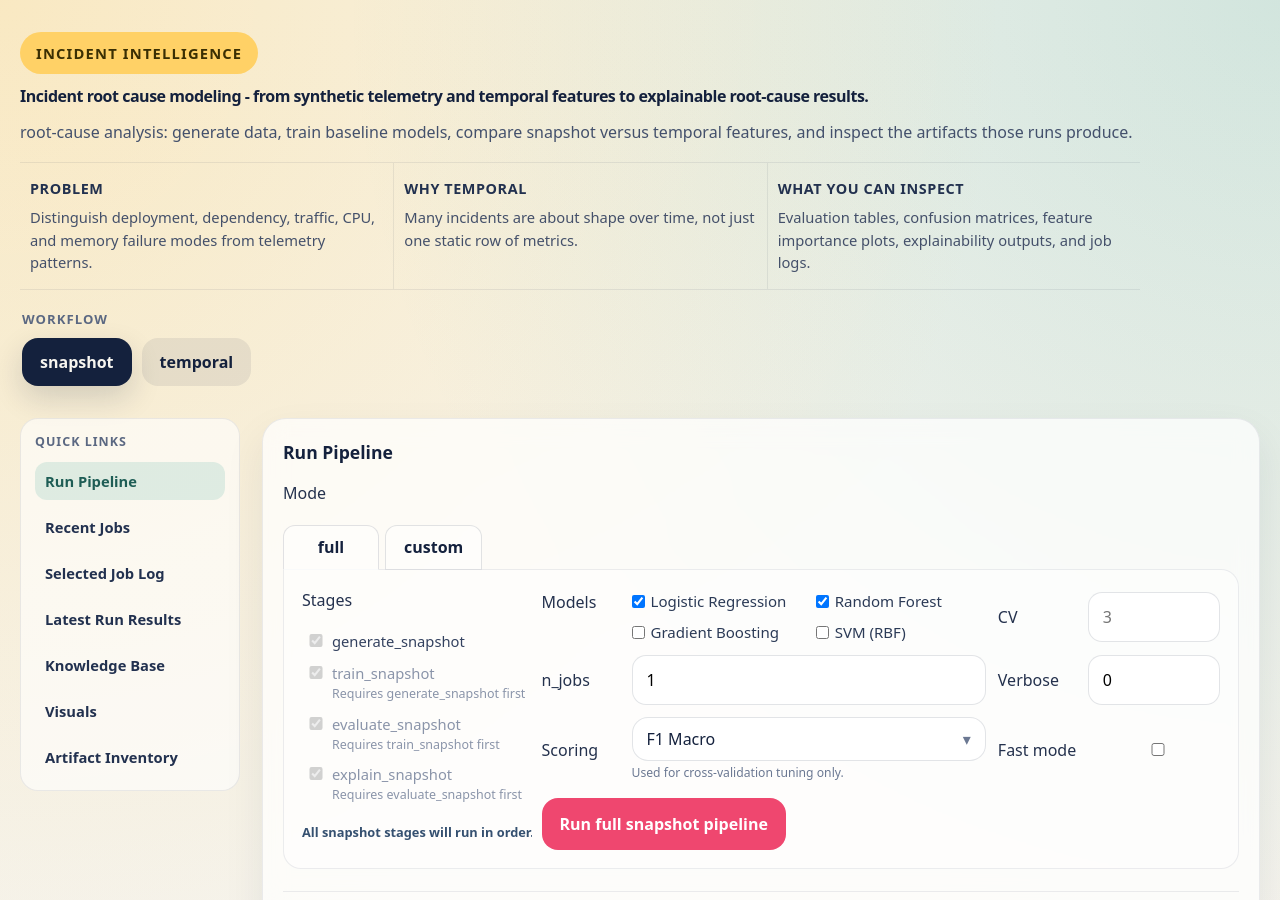
Test: App › advances a fresh custom run even when another same-workflow staged run is active
Click the button "temporal".
click(196, 362)  # box x1=142 y1=338 x2=251 y2=386
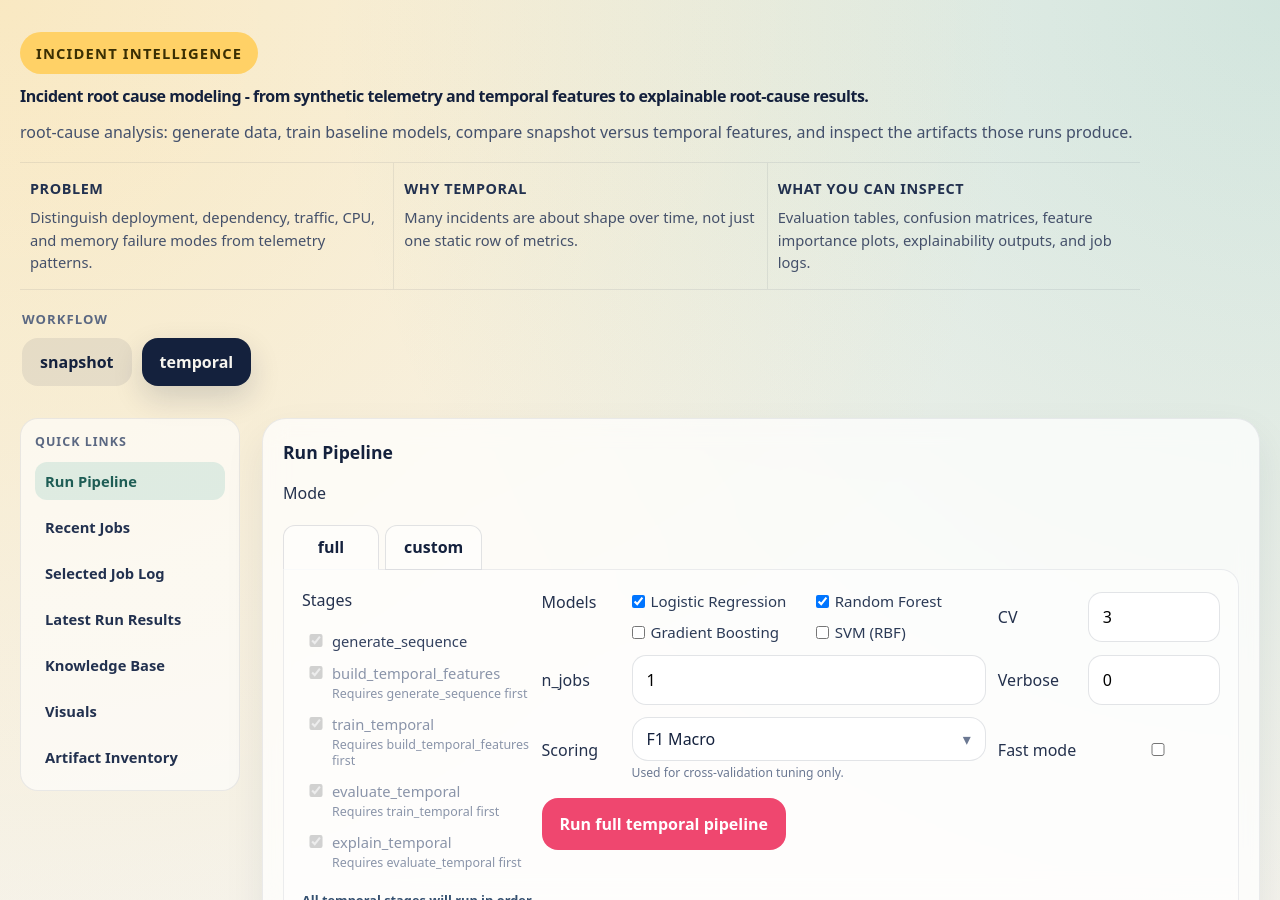
Click the button "custom".
click(434, 548)  # box x1=385 y1=525 x2=482 y2=570
(page scrolled)
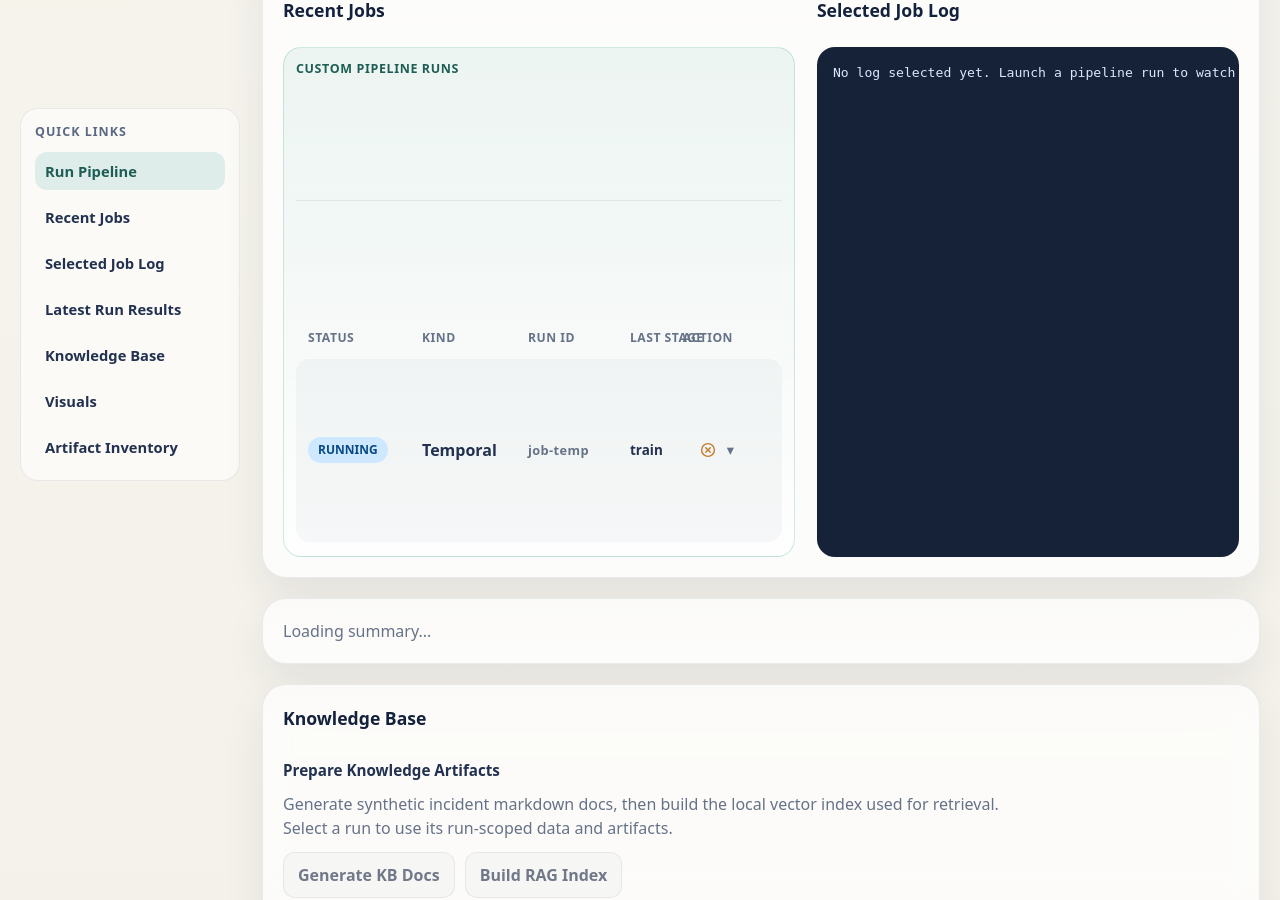
Click the button "running temporal job-temp train ▾".
click(472, 450)  # box x1=308 y1=437 x2=636 y2=463
(page scrolled)
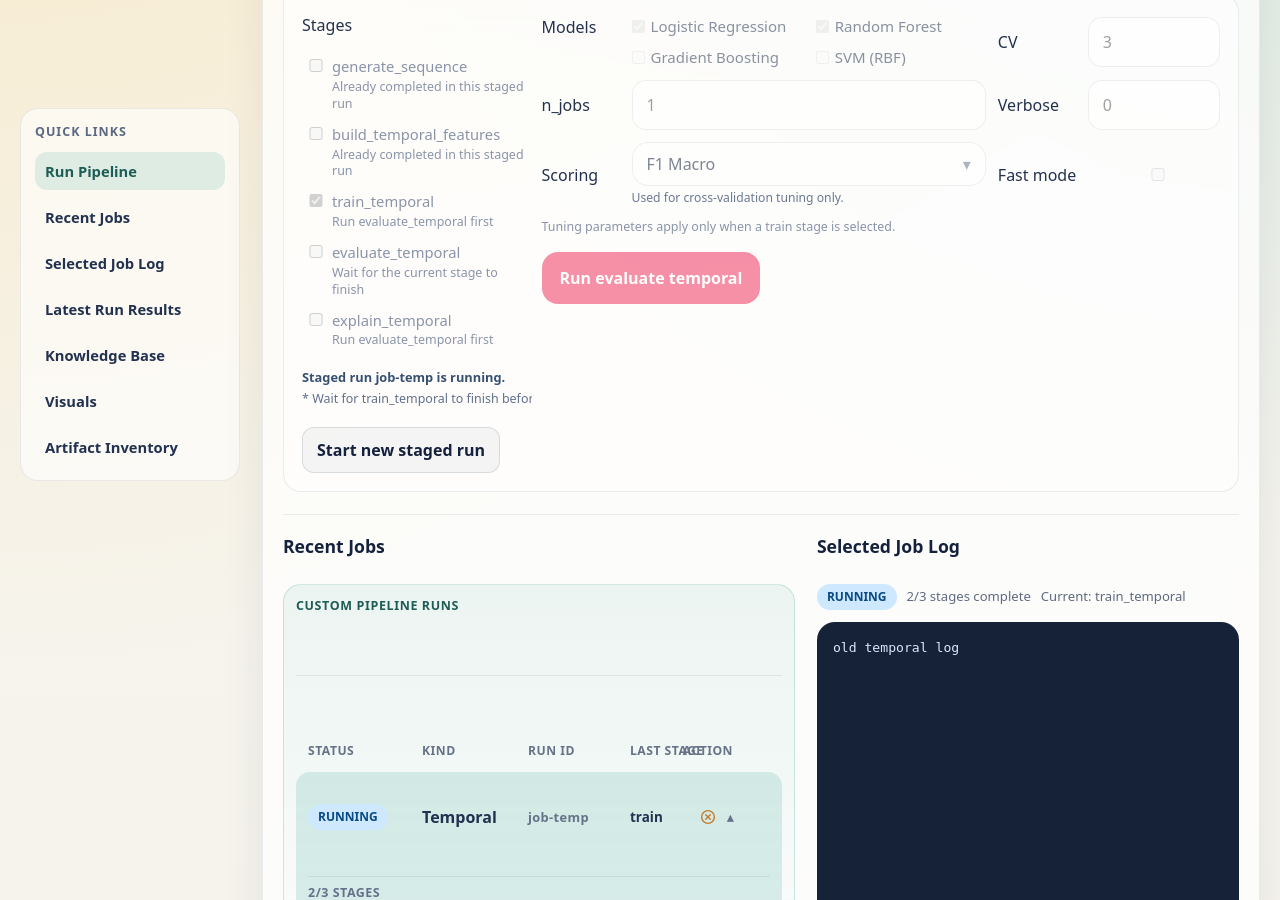
Now the text "Wait for train_temporal to finish before continuing" is shown, box x1=312 y1=390 x2=764 y2=406
Click the button "Start new staged run".
click(401, 450)  # box x1=302 y1=427 x2=500 y2=473
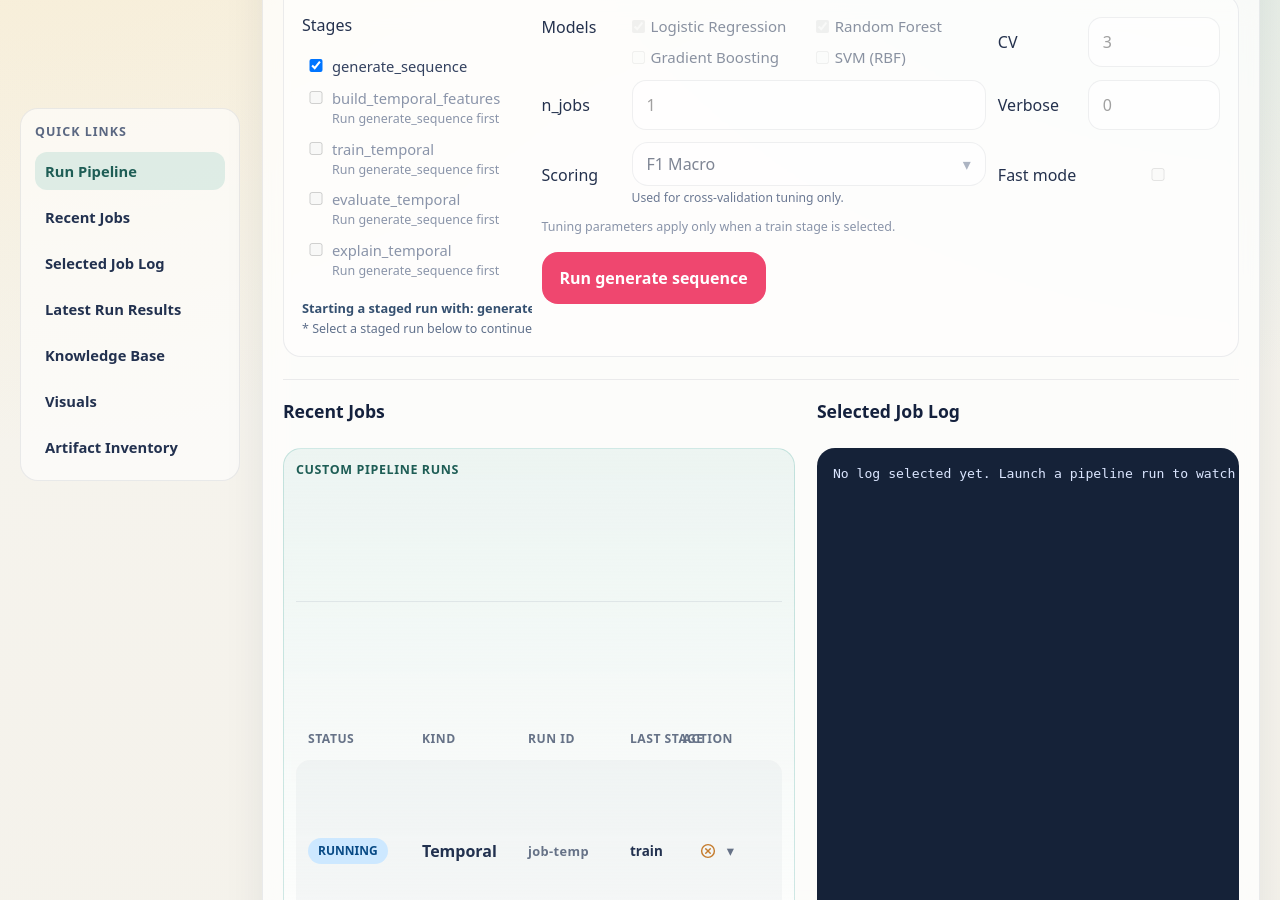
Click the button "Run generate sequence".
click(654, 278)  # box x1=542 y1=252 x2=766 y2=304
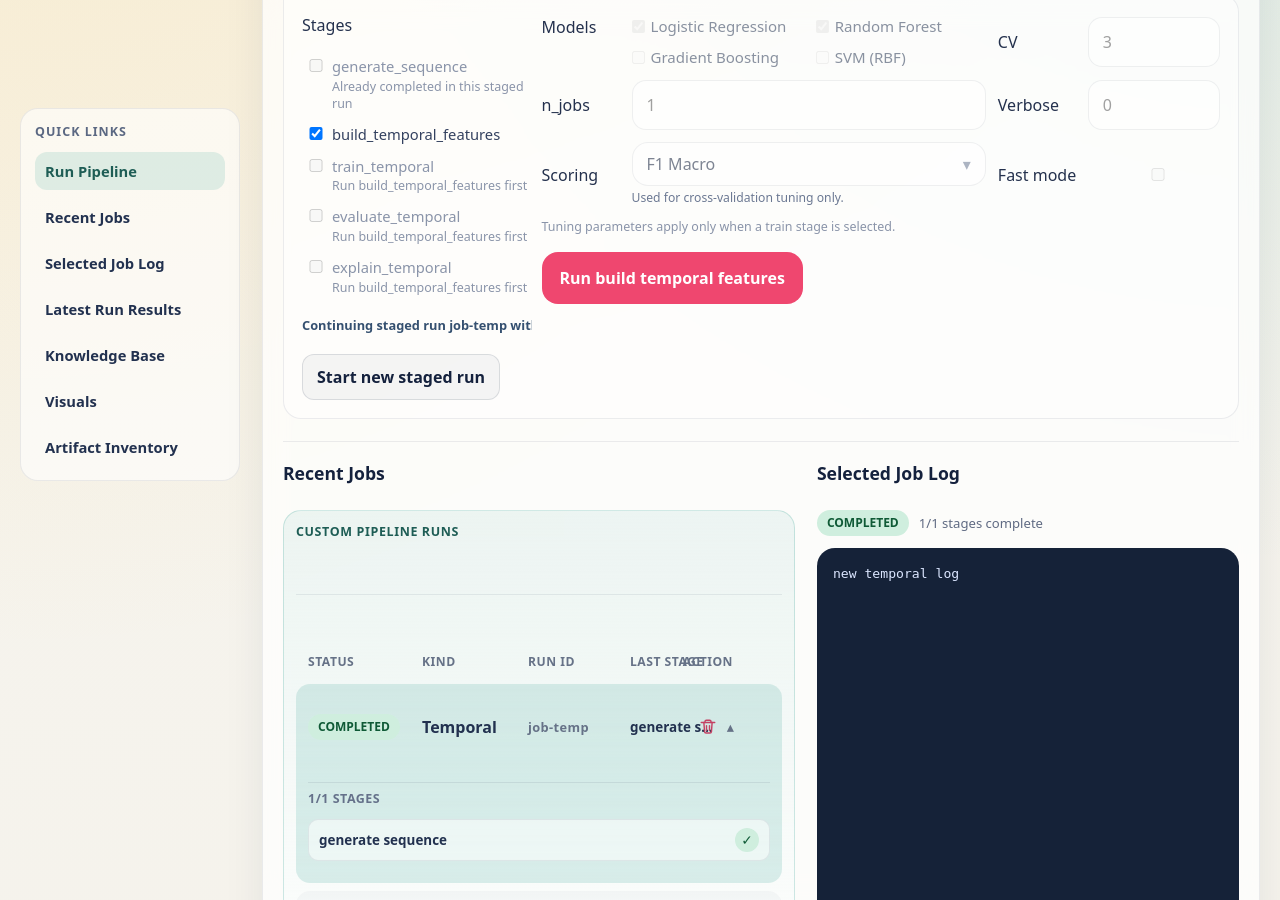
Now the text "Continuing staged run job-temp with: build_temporal_features" is shown, box x1=302 y1=317 x2=532 y2=334
Now the checkbox labelled "generate_sequence Already completed in this staged run" is disabled, box x1=306 y1=59 x2=326 y2=72
Now the checkbox labelled "build_temporal_features" is enabled, box x1=306 y1=127 x2=326 y2=140
